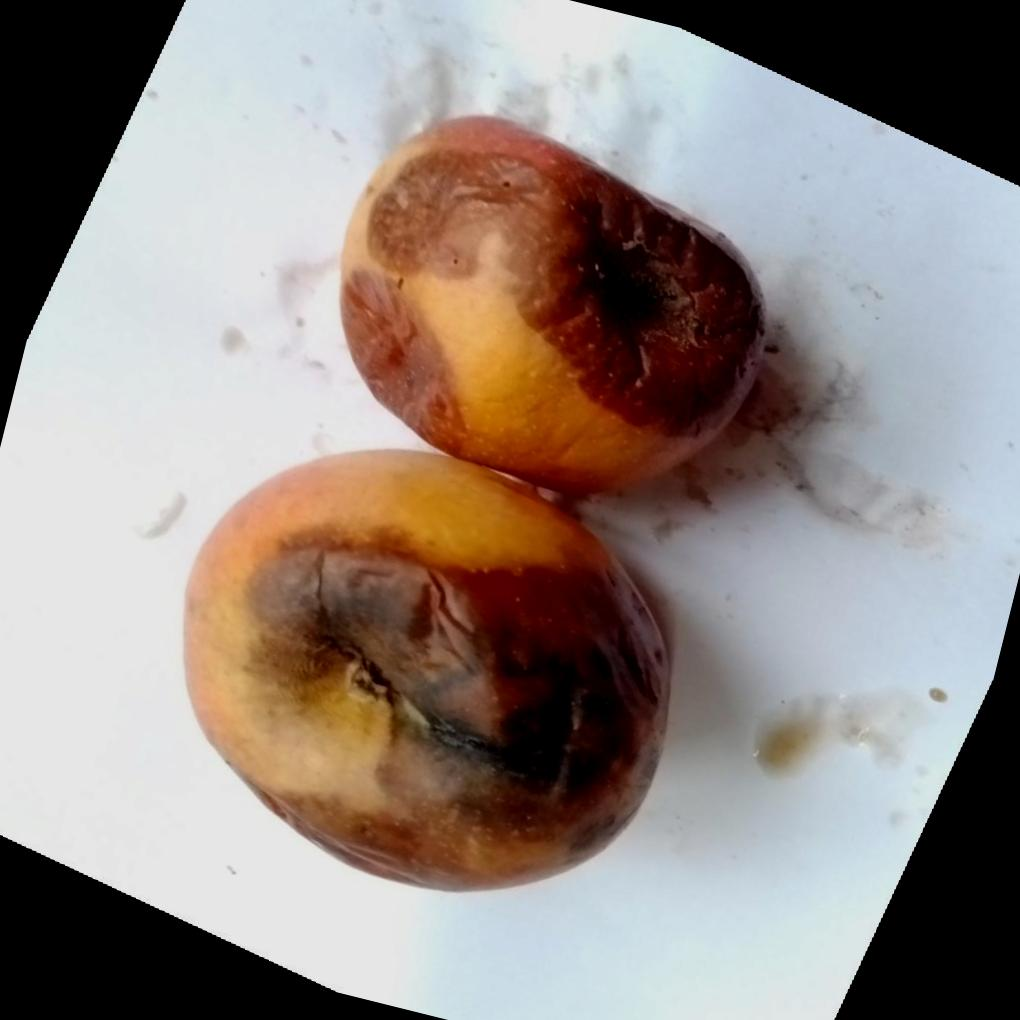FreshOrange: (182, 113, 769, 894)
